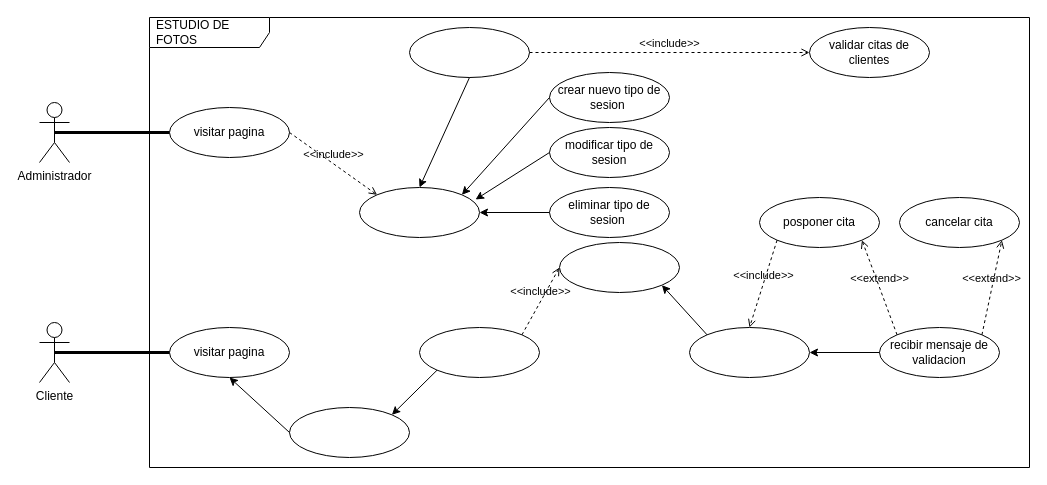
This 1047x485 diagram has some shape labels left out. Each missing label, with the centre of its shape:
"iniciar sesion" goes at (419,212).
"iniciar sesion o registro" goes at (619,267).
"realizar solicitu de sesion y cita" goes at (749,352).
"solicitar sesion y cita" goes at (479,352).
"ver diferentes tipos de sesiones" goes at (349,432).
"ver notificaciones de clientes" goes at (469,52).
